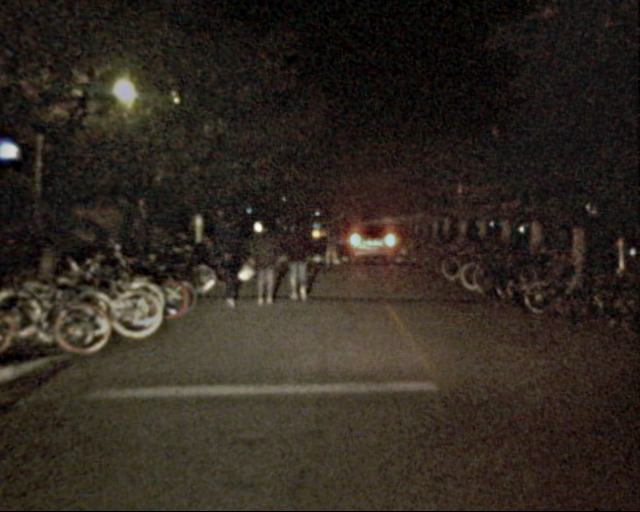person: (214, 214, 247, 311), (251, 221, 279, 309), (287, 214, 312, 301), (321, 223, 341, 271)
